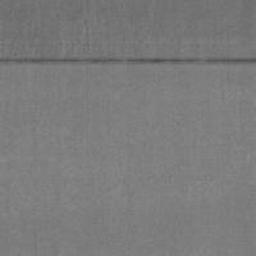Welding line: (0, 56, 256, 67)
